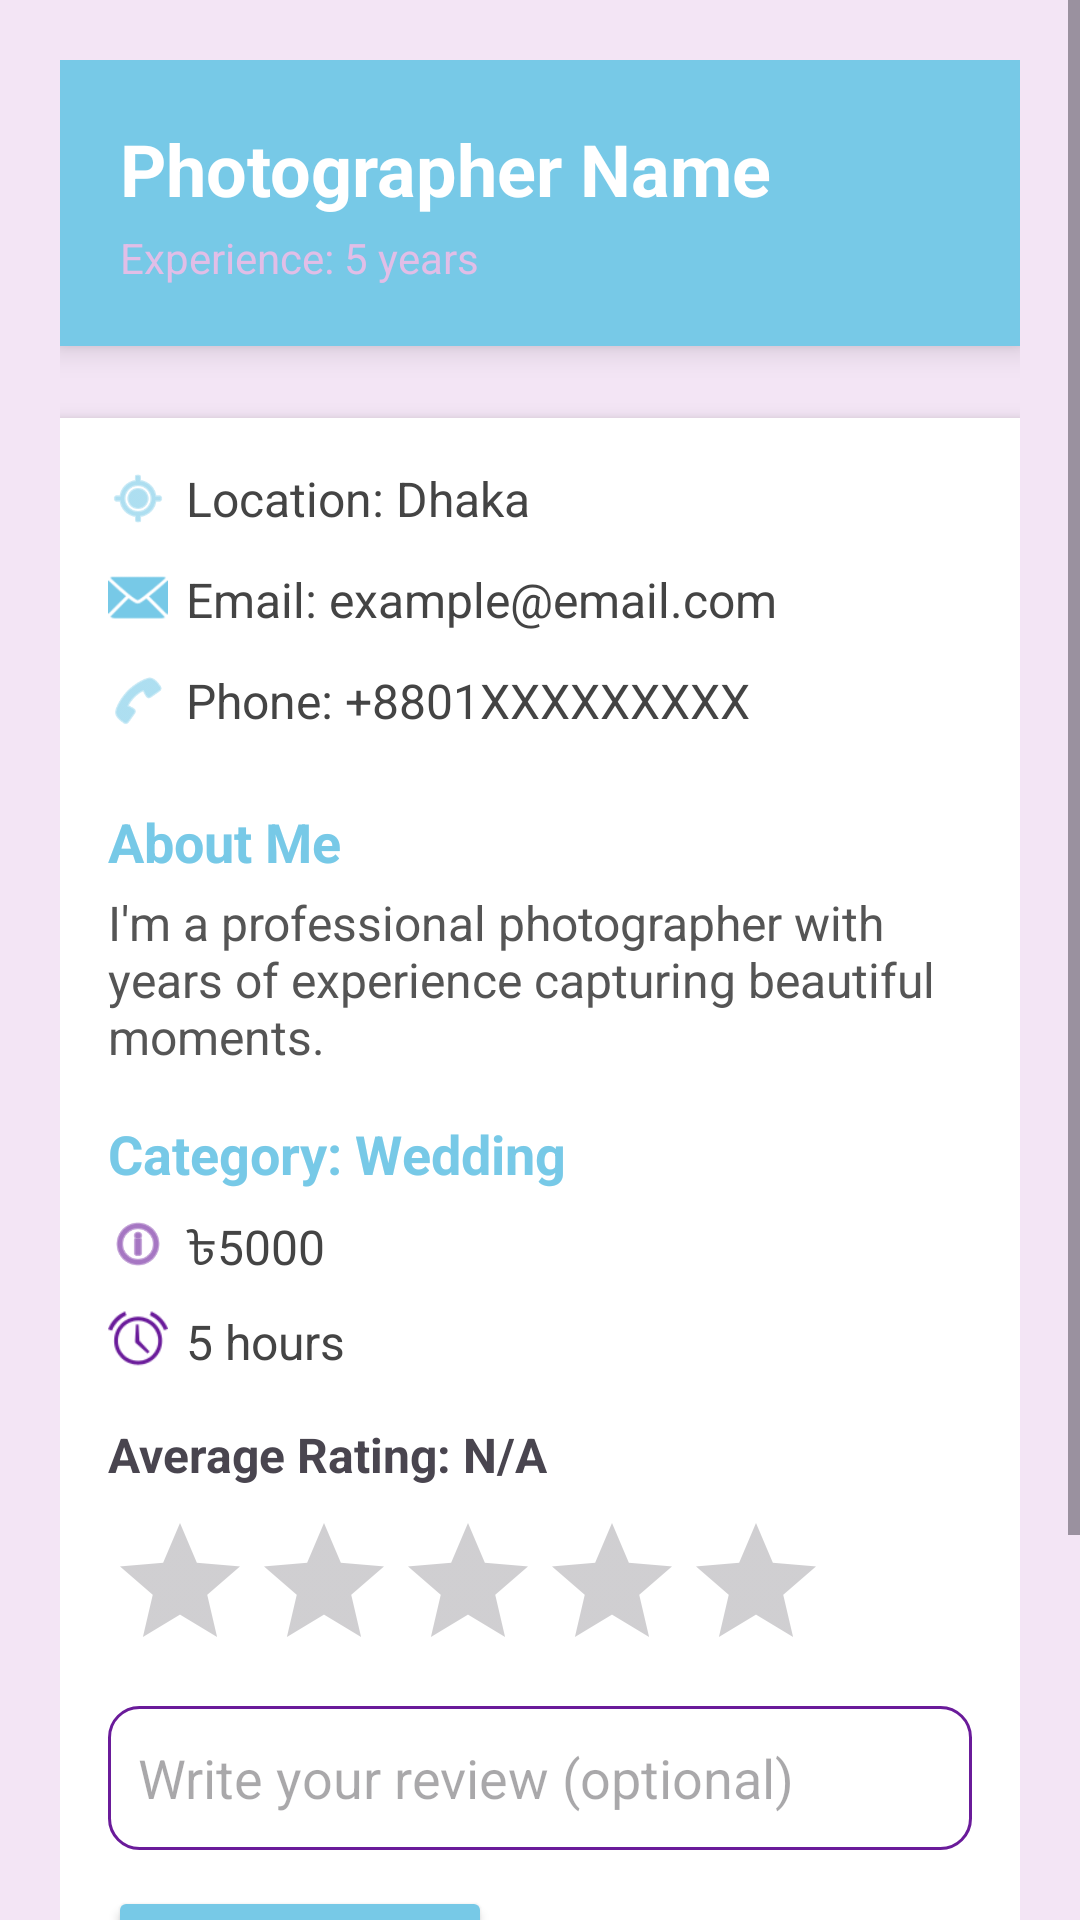

Where icons sit on this 1080 x 1920 app screen, as {"left": x1, "top": y1, "right": x2, "bottom": y2}:
call: {"left": 115, "top": 677, "right": 162, "bottom": 724}
info details: {"left": 116, "top": 1222, "right": 160, "bottom": 1266}
lock idle alarm: {"left": 108, "top": 1311, "right": 168, "bottom": 1366}
mylocation: {"left": 114, "top": 475, "right": 162, "bottom": 522}
